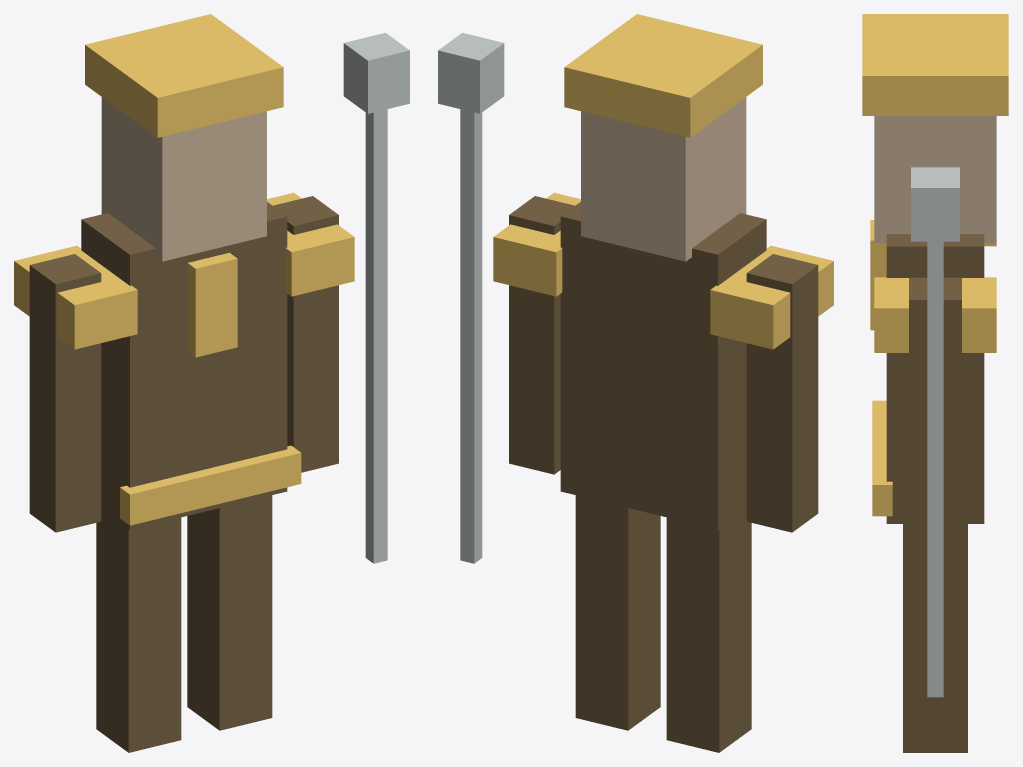
Rendered from 03_elo_spirebound_pilgrim_from_silent.glb.
3 renders of one model, left to right at view 1: azimuth 30°, elevation 25°; view 2: azimuth 150°, elevation 25°; view 3: azimuth 270°, elevation 25°, orthographic.
Parts seen in each view (by area): view 1: Elo Spirebound, Pilgrim from Silent; view 2: Elo Spirebound, Pilgrim from Silent; view 3: Elo Spirebound, Pilgrim from Silent.
Boxes of the visible parts, x1=… form: Elo Spirebound, Pilgrim from Silent: x1=14, y1=14, x2=409, y2=752; Elo Spirebound, Pilgrim from Silent: x1=438, y1=14, x2=833, y2=752; Elo Spirebound, Pilgrim from Silent: x1=862, y1=14, x2=1008, y2=752.
Size of the model in its own units: 0.9462 by 1.7 by 0.3356.
